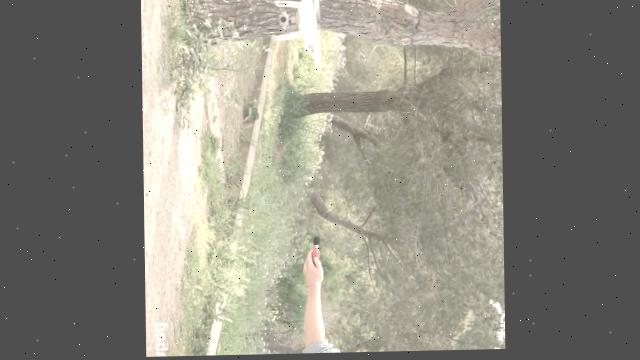drone: (275, 0, 323, 79)
